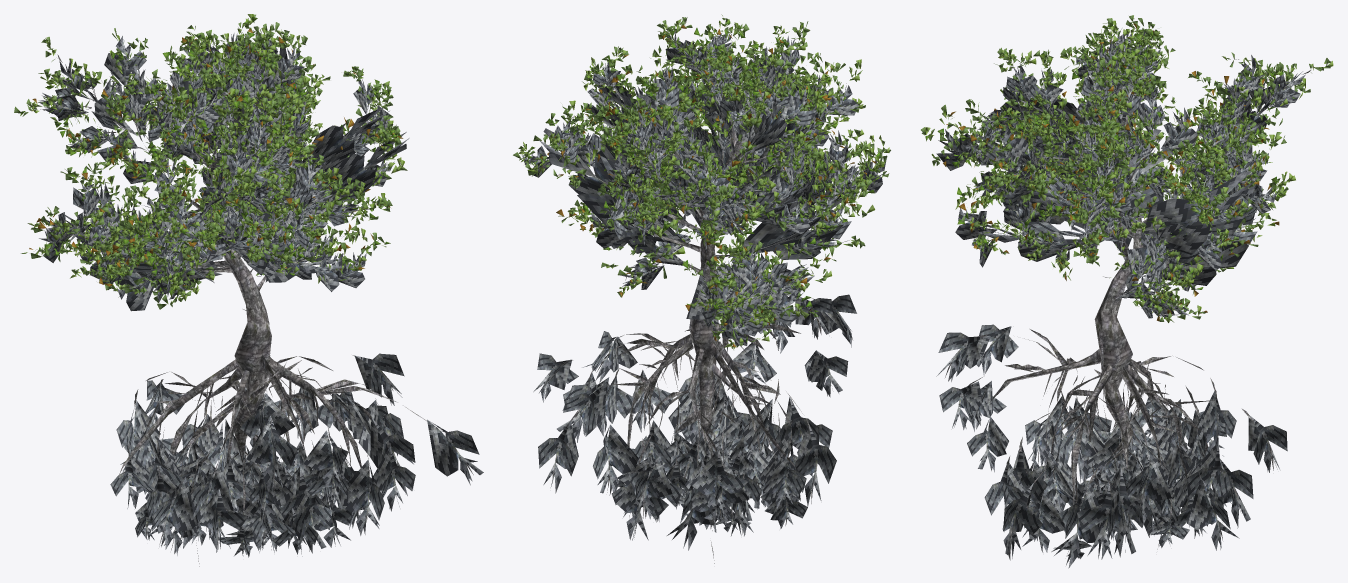
Rendered from mangrove.glb.
3 renders of one model, left to right at view 1: azimuth 30°, elevation 25°; view 2: azimuth 150°, elevation 25°; view 3: azimuth 270°, elevation 25°, orthographic. The views are drawn at different scales.
Visible parts, largest first — view 1: mangrove; view 2: mangrove; view 3: mangrove.
Boxes of the visible parts, box(x1,y1,x2,y2) form: mangrove: box(14, 14, 483, 566); mangrove: box(513, 14, 890, 563); mangrove: box(921, 15, 1333, 568).
Bounding box in the file's own units: 0.9525 × 1.41 × 0.9951.
5 materials, 5 textured.
